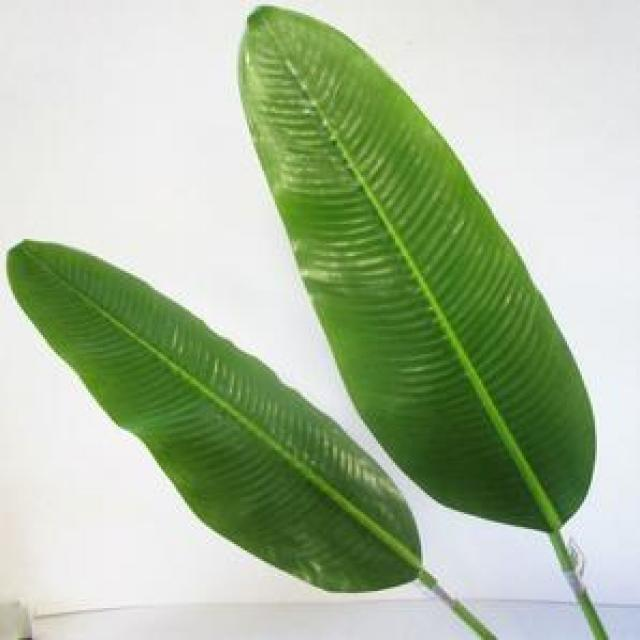green waste: (220, 1, 617, 640), (0, 228, 506, 640)
